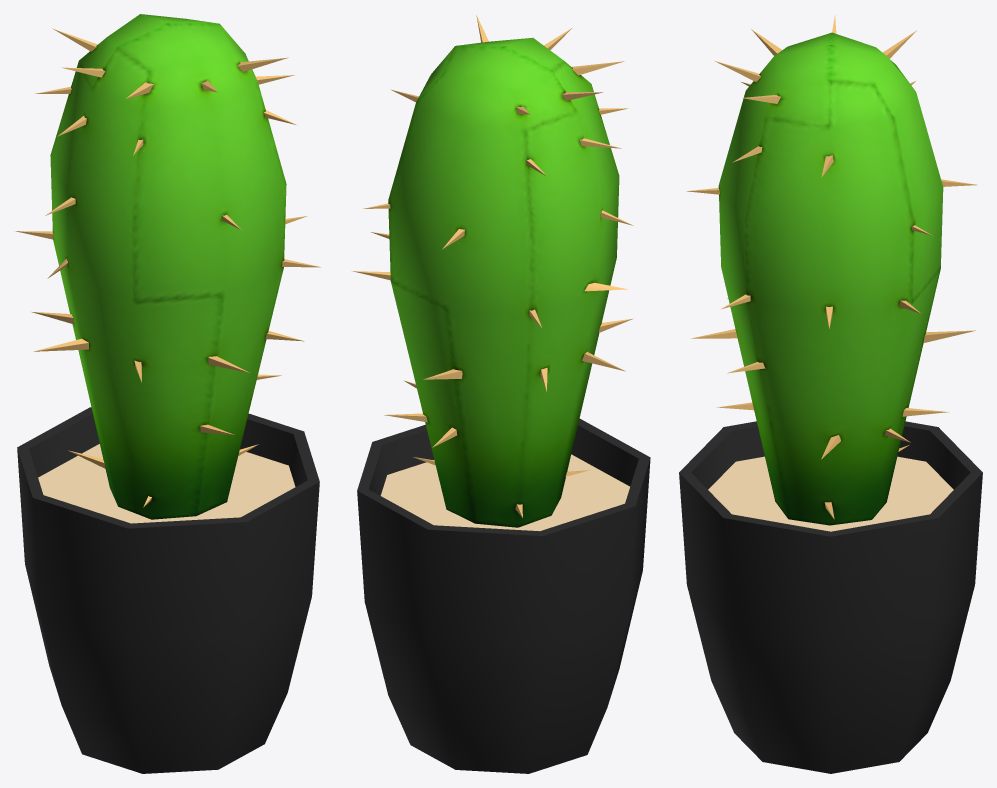
File: plant2.glb
3 views of the same model, side by side, from view 1: azimuth 30°, elevation 25°; view 2: azimuth 150°, elevation 25°; view 3: azimuth 270°, elevation 25° (orthographic). The views are drawn at different scales.
Parts seen in each view (by area): view 1: Houseplant_3.001_primitive0; view 2: Houseplant_3.001_primitive0; view 3: Houseplant_3.001_primitive0.
Boxes of the visible parts, x1=… form: Houseplant_3.001_primitive0: x1=15, y1=14, x2=320, y2=773; Houseplant_3.001_primitive0: x1=352, y1=14, x2=650, y2=773; Houseplant_3.001_primitive0: x1=679, y1=15, x2=982, y2=773.
Size of the model in its own units: 0.3426 by 0.8449 by 0.3383.
4 materials, 1 textured.
